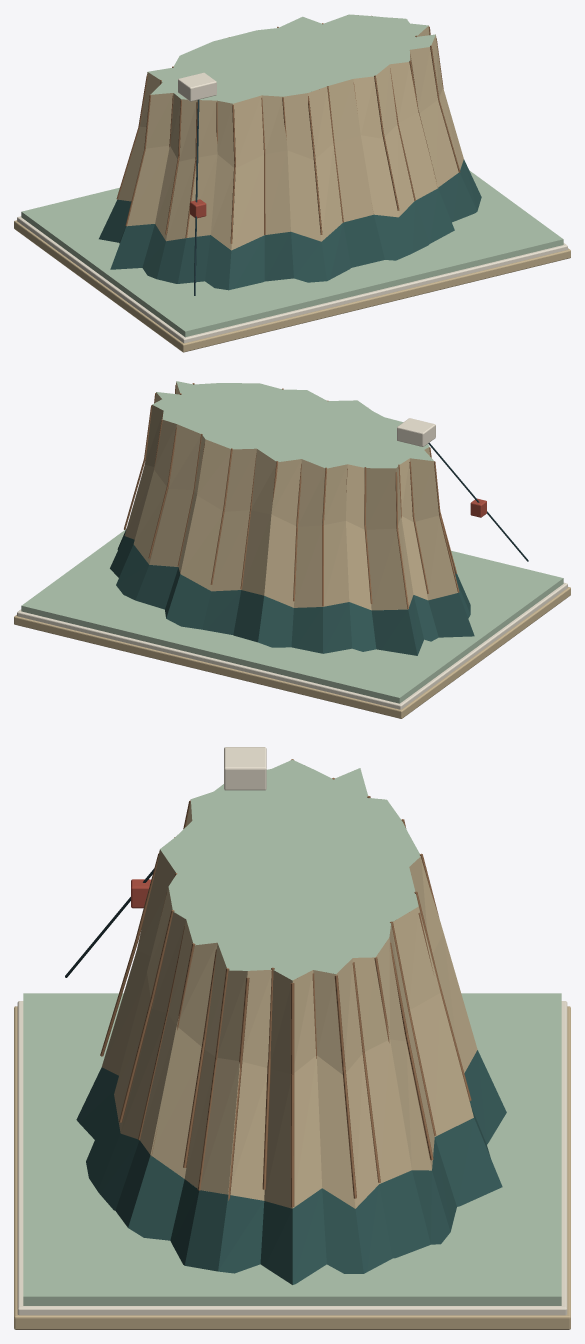
The model's file is table_mountain.glb.
3 views of the same model, one above another, from view 1: azimuth 30°, elevation 25°; view 2: azimuth 150°, elevation 25°; view 3: azimuth 270°, elevation 25° (orthographic). The views are drawn at different scales.
Visible parts, largest first — view 1: table_mountain_stone, table_mountain_mint, table_mountain_roof, table_mountain_ivory, table_mountain_bronze; view 2: table_mountain_stone, table_mountain_mint, table_mountain_roof, table_mountain_ivory, table_mountain_bronze; view 3: table_mountain_mint, table_mountain_stone, table_mountain_roof, table_mountain_ivory, table_mountain_bronze.
Part boxes in pixels (x1,y1,x2,y2): table_mountain_stone: (14,26,570,352); table_mountain_mint: (21,14,563,337); table_mountain_roof: (99,159,481,290); table_mountain_ivory: (17,72,567,343); table_mountain_bronze: (116,15,460,243); table_mountain_stone: (14,382,570,718); table_mountain_mint: (21,381,563,703); table_mountain_roof: (110,528,474,655); table_mountain_ivory: (17,418,567,709); table_mountain_bronze: (124,383,459,608); table_mountain_mint: (23,759,561,1305); table_mountain_stone: (14,799,570,1329); table_mountain_roof: (76,1050,506,1284); table_mountain_ivory: (17,747,567,1315); table_mountain_bronze: (100,759,471,1207).
Bounding box in the file's own units: 7.8 × 3.86 × 5.9.
